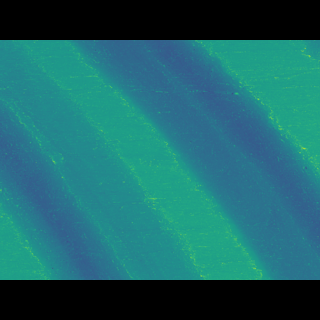Loch: (65, 68, 320, 250), (0, 110, 137, 251)
